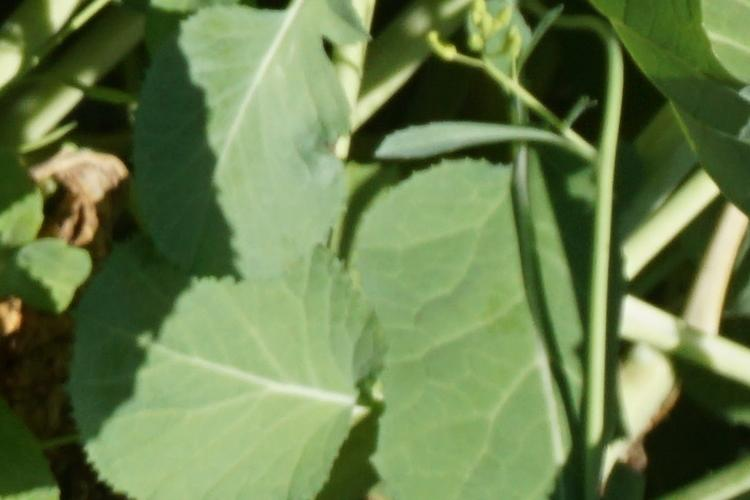bud: (508, 25, 522, 67), (495, 7, 513, 28), (483, 16, 494, 37), (470, 35, 484, 50), (472, 5, 490, 16)
